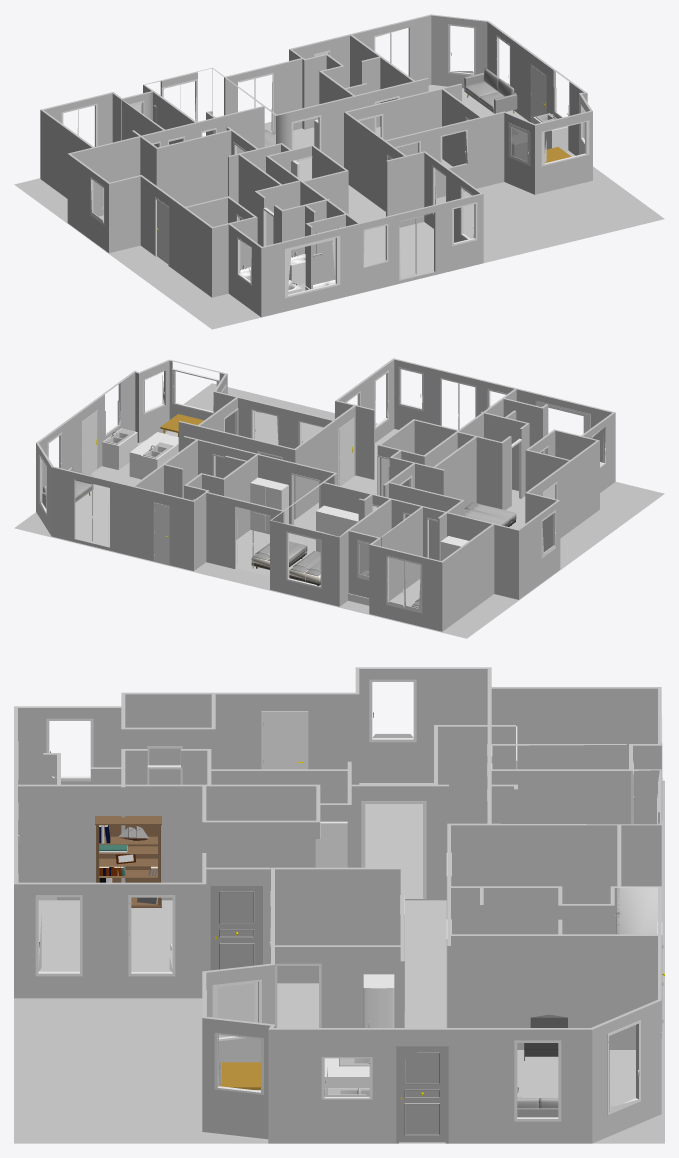
Rendered from Inverrary_8_notbaked.gltf.
The picture shows the model from 3 angles, top to bottom: view 1: azimuth 30°, elevation 25°; view 2: azimuth 150°, elevation 25°; view 3: azimuth 270°, elevation 25°; orthographic projection. The views are drawn at different scales.
Visible parts, largest first — view 1: inverrary; view 2: inverrary; view 3: inverrary.
Part boxes in pixels (left/top/right/bottom): inverrary: left=14, top=14, right=664, bottom=329; inverrary: left=14, top=358, right=664, bottom=638; inverrary: left=14, top=667, right=664, bottom=1143.
Bounding box in the file's own units: 16.67 × 2.44 × 12.64.
